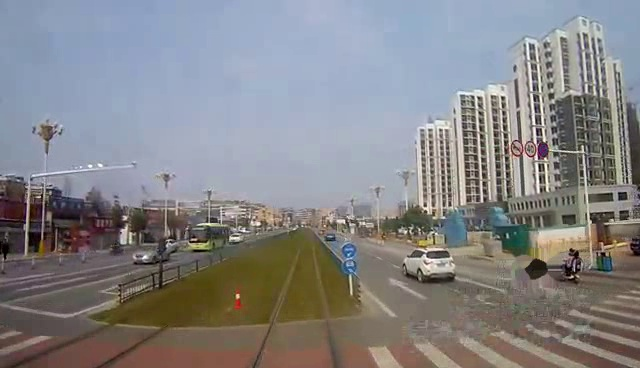bus: (181, 217, 230, 254)
car: (398, 244, 458, 285), (129, 236, 176, 266)
